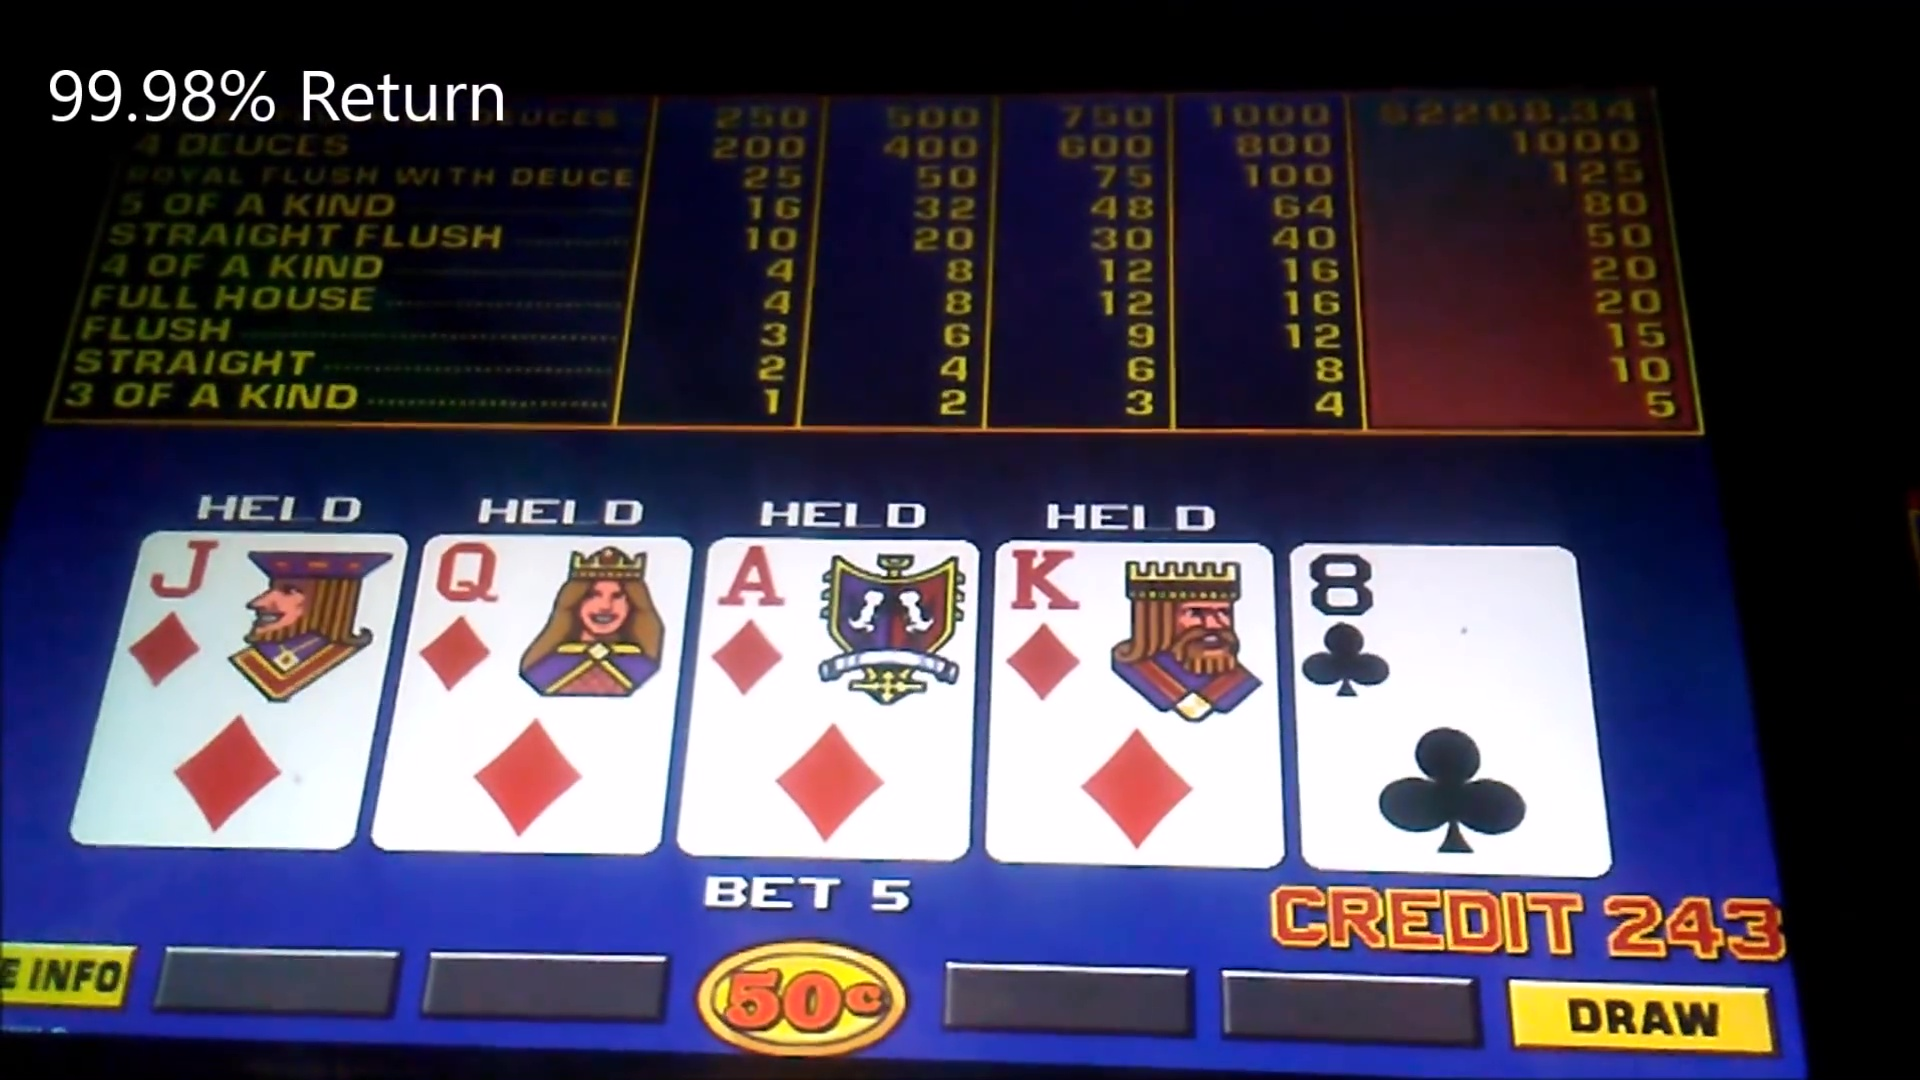C8: (1302, 545, 1588, 876)
DA: (696, 535, 969, 857)
DJ: (127, 533, 369, 849)
DK: (996, 543, 1276, 866)
DQ: (411, 535, 673, 857)
